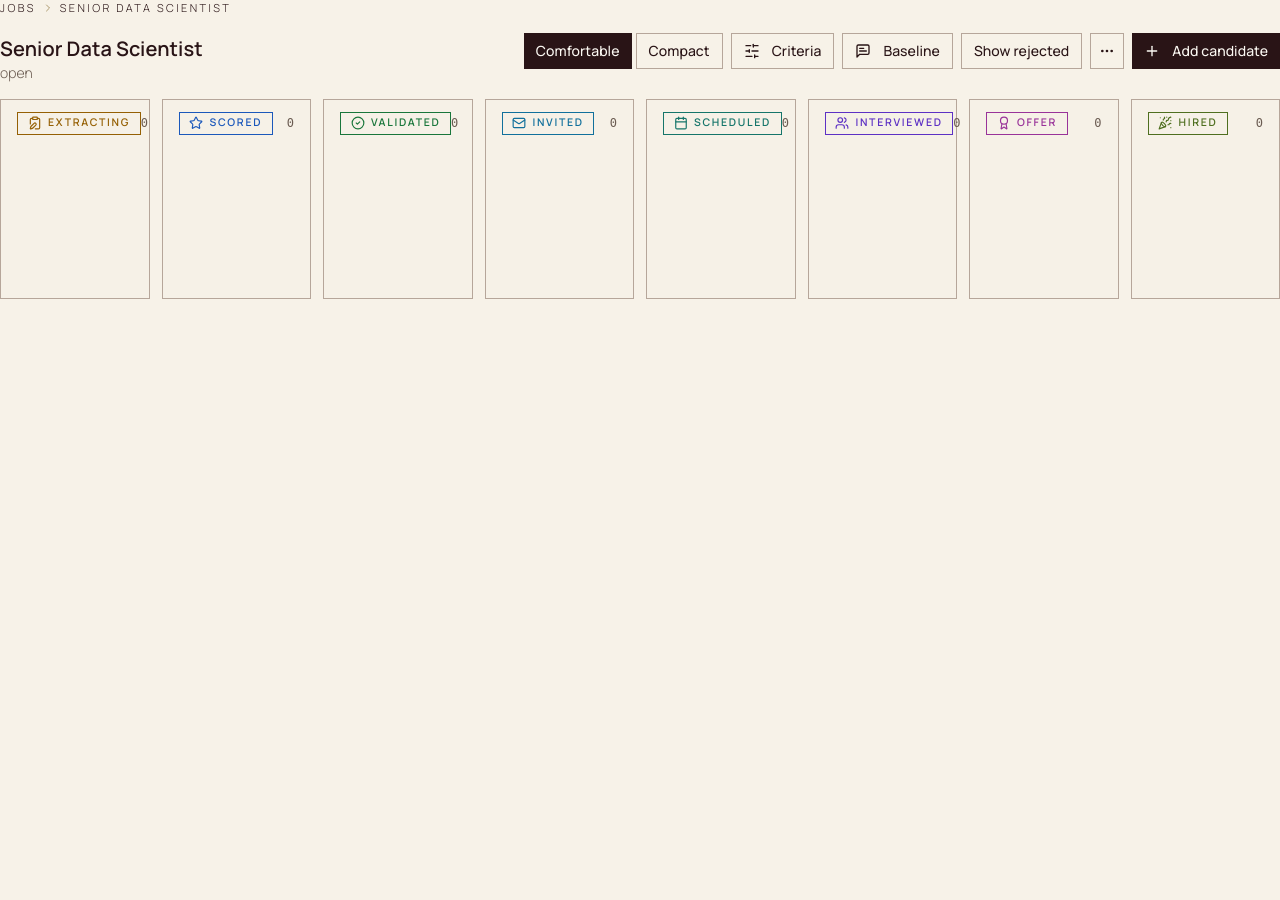
JobDetail write controls — criteria sheet › shows Save, Suggest from JD, and Add criterion to a recruiter
This screenshot has width=1280, height=900.
Check: the heading "Senior Data Scientist" is shown, box top-left (0, 34), bottom-right (203, 62)
Click the button "Criteria". click: coordinates (782, 50)
box: top-left (731, 32), bottom-right (834, 68)
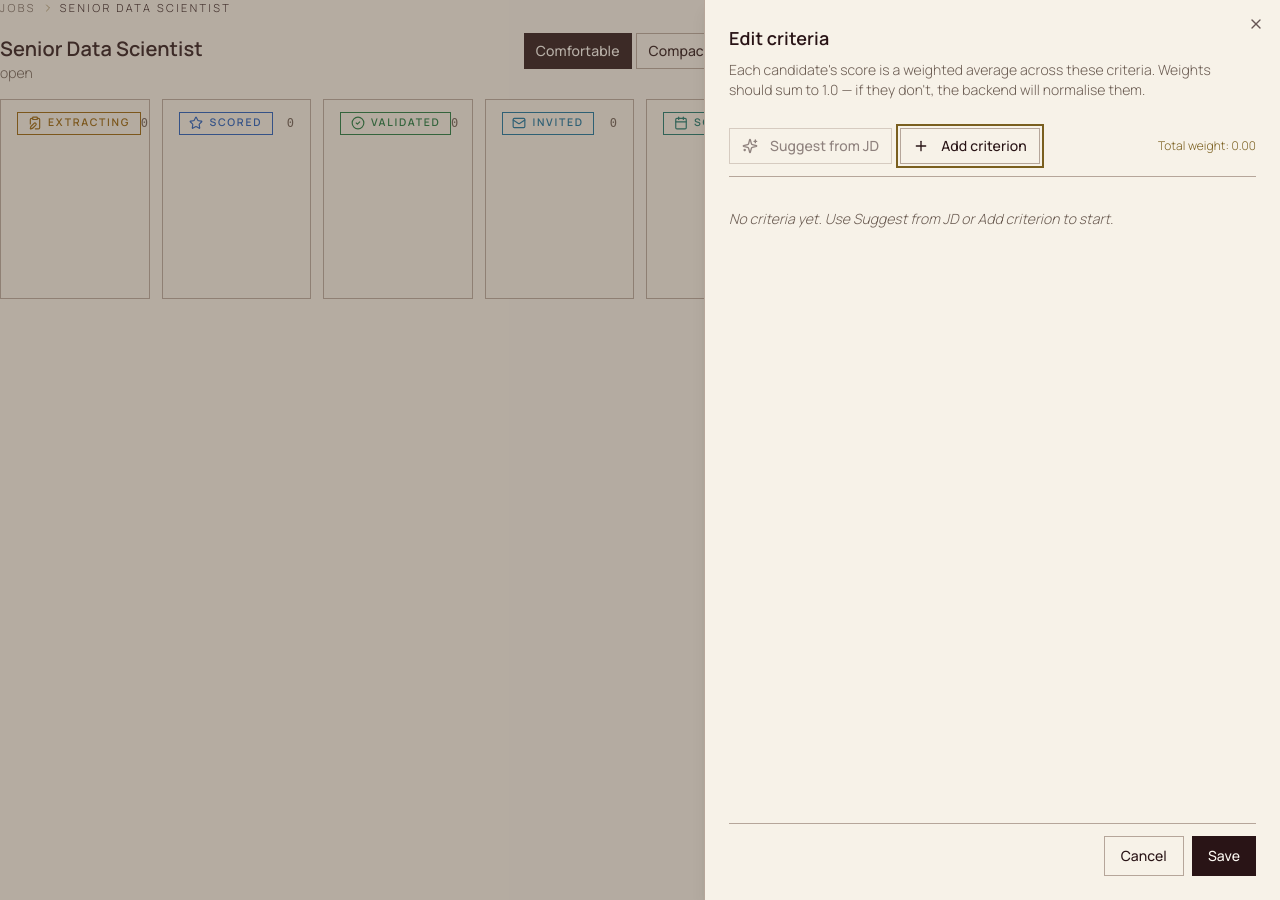
Check: the heading "Edit criteria" is shown, box top-left (729, 26), bottom-right (829, 50)
Check: the button "Suggest from JD" is shown, box top-left (729, 128), bottom-right (892, 164)
Check: the button "Add criterion" is shown, box top-left (900, 128), bottom-right (1040, 164)
